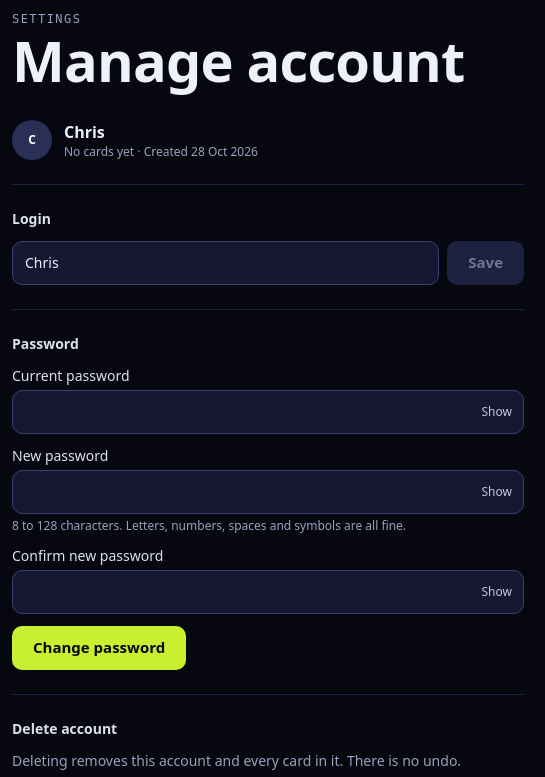
Test: ManageAccount › Login section › no answer shows the in-form banner and keeps the new login
The width and height of the screenshot is (545, 777).
In the field named "New login": (226, 263) [12,241,439,285], type "2"
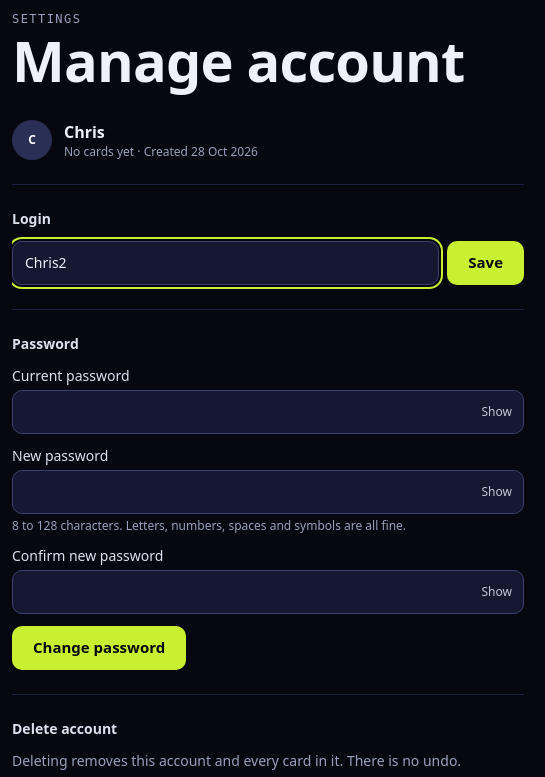
Click the button "Save": (486, 263) [447,241,524,285]
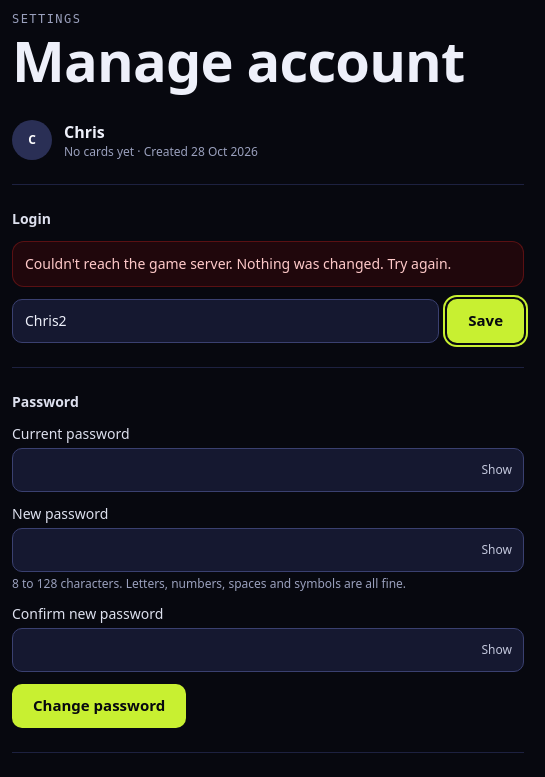
Expected: the field named "New login" holds "Chris2", [12,299,439,343]
Expected: the message reads "Couldn't reach the game server. Nothing was changed. Try again.", [25,254,451,273]
